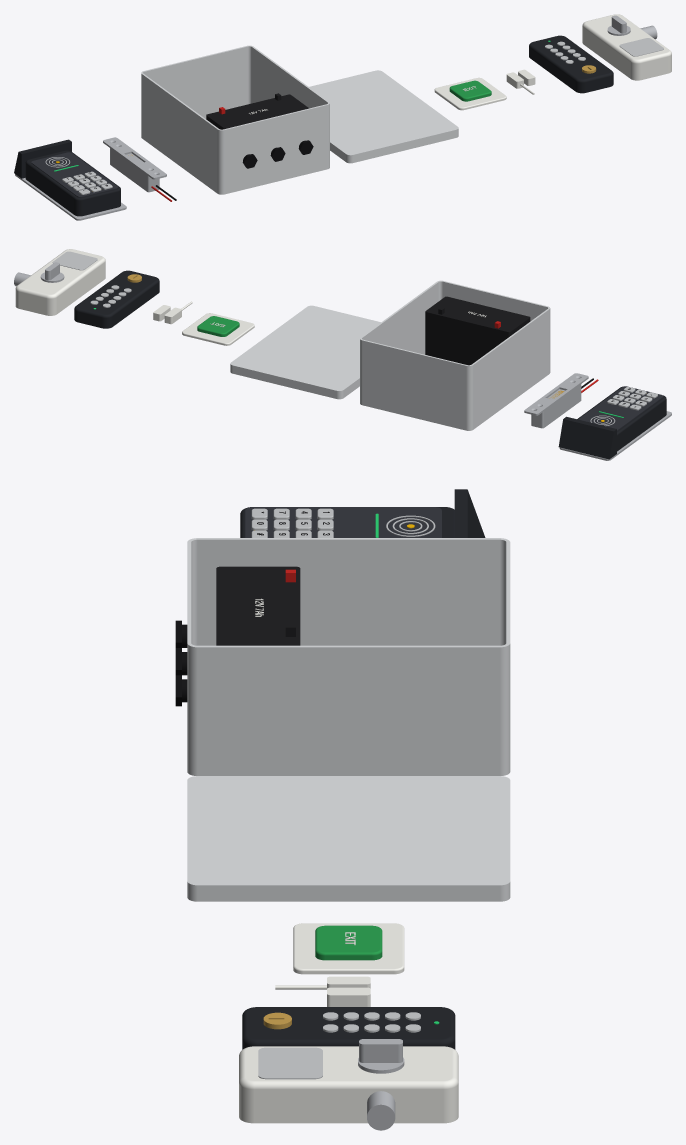
File: ada_smart_access_kit.glb
3 views of the same model, one above another, from view 1: azimuth 30°, elevation 25°; view 2: azimuth 150°, elevation 25°; view 3: azimuth 270°, elevation 25° (orthographic). The views are drawn at different scales.
Parts seen in each view (by area): view 1: node_enclosure, node_lid_clear, deadbolt_inside_body, deadbolt_outside_body, keypad_body, node_battery_12V_7Ah, keypad_face, exit_plate, strike_body, strike_faceplate, keypad_rain_hood, exit_button (+3 smaller); view 2: node_enclosure, node_lid_clear, node_battery_12V_7Ah, deadbolt_inside_body, deadbolt_outside_body, keypad_rain_hood, keypad_face, keypad_body, exit_plate, strike_body, strike_faceplate, exit_button (+3 smaller); view 3: node_enclosure, node_lid_clear, deadbolt_inside_body, deadbolt_outside_body, node_battery_12V_7Ah, keypad_face, exit_plate, exit_button, deadbolt_battery_cover, deadbolt_thumbturn, keypad_rain_hood, deadbolt_bolt.
Boxes of the visible parts, bbox=[...] form: node_enclosure: bbox=[141, 45, 329, 194]; node_lid_clear: bbox=[309, 70, 458, 163]; deadbolt_inside_body: bbox=[582, 14, 671, 80]; deadbolt_outside_body: bbox=[529, 35, 613, 93]; keypad_body: bbox=[25, 150, 120, 216]; node_battery_12V_7Ah: bbox=[206, 94, 308, 129]; keypad_face: bbox=[31, 152, 117, 197]; exit_plate: bbox=[434, 77, 506, 110]; strike_body: bbox=[110, 148, 159, 192]; strike_faceplate: bbox=[103, 137, 166, 179]; keypad_rain_hood: bbox=[14, 139, 71, 178]; exit_button: bbox=[449, 80, 491, 101]; node_enclosure: bbox=[360, 280, 550, 430]; node_lid_clear: bbox=[230, 305, 380, 399]; node_battery_12V_7Ah: bbox=[425, 296, 530, 365]; deadbolt_inside_body: bbox=[15, 249, 105, 315]; deadbolt_outside_body: bbox=[74, 270, 159, 328]; keypad_rain_hood: bbox=[558, 416, 616, 459]; keypad_face: bbox=[578, 386, 663, 430]; keypad_body: bbox=[577, 386, 666, 451]; exit_plate: bbox=[182, 313, 254, 345]; strike_body: bbox=[531, 382, 581, 428]; strike_faceplate: bbox=[524, 373, 588, 415]; exit_button: bbox=[197, 316, 239, 336]; node_enclosure: bbox=[187, 538, 510, 775]; node_lid_clear: bbox=[187, 776, 510, 901]; deadbolt_inside_body: bbox=[239, 1046, 458, 1123]; deadbolt_outside_body: bbox=[242, 1007, 455, 1049]; node_battery_12V_7Ah: bbox=[216, 566, 300, 645]; keypad_face: bbox=[245, 507, 441, 537]; exit_plate: bbox=[293, 923, 404, 974]; exit_button: bbox=[315, 925, 382, 960]; deadbolt_battery_cover: bbox=[258, 1047, 322, 1079]; deadbolt_thumbturn: bbox=[358, 1039, 404, 1073]; keypad_rain_hood: bbox=[454, 489, 485, 537]; deadbolt_bolt: bbox=[367, 1091, 395, 1130].
Bounding box in the file's own units: 1097 × 113 × 259.
